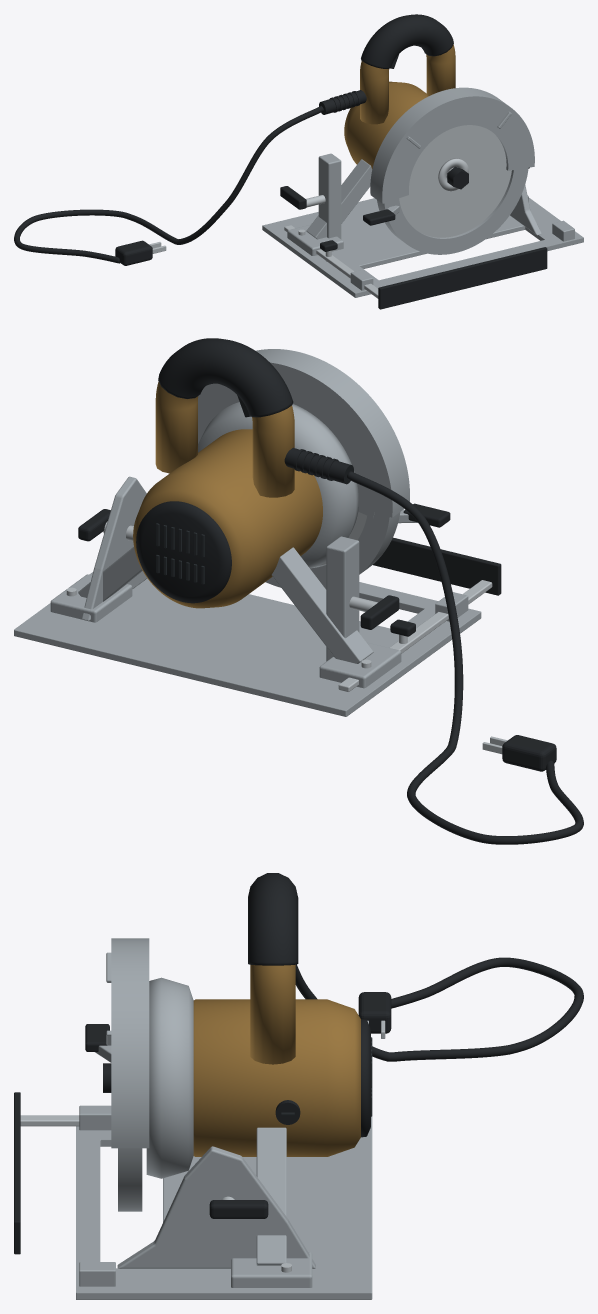
3 views of the same model, one above another, from view 1: azimuth 30°, elevation 25°; view 2: azimuth 150°, elevation 25°; view 3: azimuth 270°, elevation 25° (orthographic). The views are drawn at different scales.
Parts seen in each view (by area): view 1: Original24 tooth circular blade, Upper fixed U section guard, One piece open aperture shoe, Rip fence perpendicular guide, Lower closed crescent U guard, Attached original static cord, Rubber upper handgrip, Molded open handle frame, Transverse motor housing, Rear depth adjustment upright, Body to shoe support -1, Shoe support foot -1 (+5 smaller); view 2: One piece open aperture shoe, Transverse motor housing, Upper fixed U section guard, Motor rear end cover, Molded open handle frame, Rubber upper handgrip, Attached original static cord, Rear gearbox housing, Body to shoe support -1, Rip fence perpendicular guide, Front bevel upright, Rear depth adjustment upright (+8 smaller); view 3: Transverse motor housing, One piece open aperture shoe, Front bevel upright, Rear gearbox housing, Upper fixed U section guard, Attached original static cord, Molded open handle frame, Rubber upper handgrip, Body to shoe support 1, Shoe support foot 1, Lower closed crescent U guard, Generic plug body (+7 smaller).
Boxes of the visible parts, x1,y1,x2,y2 form: Original24 tooth circular blade: [399, 125, 511, 237]; Upper fixed U section guard: [370, 87, 534, 203]; One piece open aperture shoe: [262, 198, 583, 297]; Rip fence perpendicular guide: [378, 247, 547, 309]; Lower closed crescent U guard: [377, 167, 528, 254]; Attached original static cord: [14, 106, 323, 263]; Rubber upper handgrip: [361, 14, 453, 68]; Molded open handle frame: [360, 44, 455, 124]; Transverse motor housing: [344, 81, 427, 168]; Rear depth adjustment upright: [318, 153, 341, 239]; Body to shoe support -1: [306, 159, 372, 239]; Shoe support foot -1: [287, 224, 343, 255]; One piece open aperture shoe: [14, 572, 481, 716]; Transverse motor housing: [133, 429, 322, 608]; Upper fixed U section guard: [198, 349, 409, 517]; Motor rear end cover: [136, 501, 231, 603]; Molded open handle frame: [155, 381, 294, 497]; Rubber upper handgrip: [158, 338, 293, 417]; Attached original static cord: [347, 471, 583, 844]; Rear gearbox housing: [198, 402, 358, 568]; Body to shoe support -1: [271, 547, 373, 663]; Rip fence perpendicular guide: [373, 537, 501, 595]; Front bevel upright: [81, 476, 147, 620]; Rear depth adjustment upright: [326, 536, 359, 661]; Transverse motor housing: [193, 999, 360, 1156]; One piece open aperture shoe: [76, 1116, 372, 1299]; Front bevel upright: [117, 1146, 315, 1268]; Rear gearbox housing: [146, 977, 193, 1178]; Upper fixed U section guard: [111, 938, 149, 1148]; Attached original static cord: [295, 957, 583, 1061]; Molded open handle frame: [250, 964, 295, 1064]; Rubber upper handgrip: [248, 873, 298, 965]; Body to shoe support 1: [256, 1127, 286, 1265]; Shoe support foot 1: [231, 1252, 312, 1287]; Lower closed crescent U guard: [118, 1148, 142, 1211]; Generic plug body: [358, 992, 391, 1033].
Bounding box in the file's own units: 0.583 × 0.268 × 0.4192.
